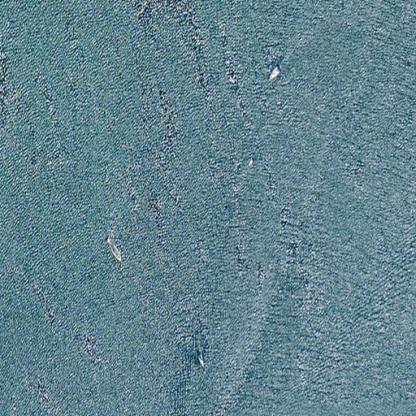ship: (101, 231, 124, 265), (264, 60, 284, 83), (190, 351, 212, 370)
